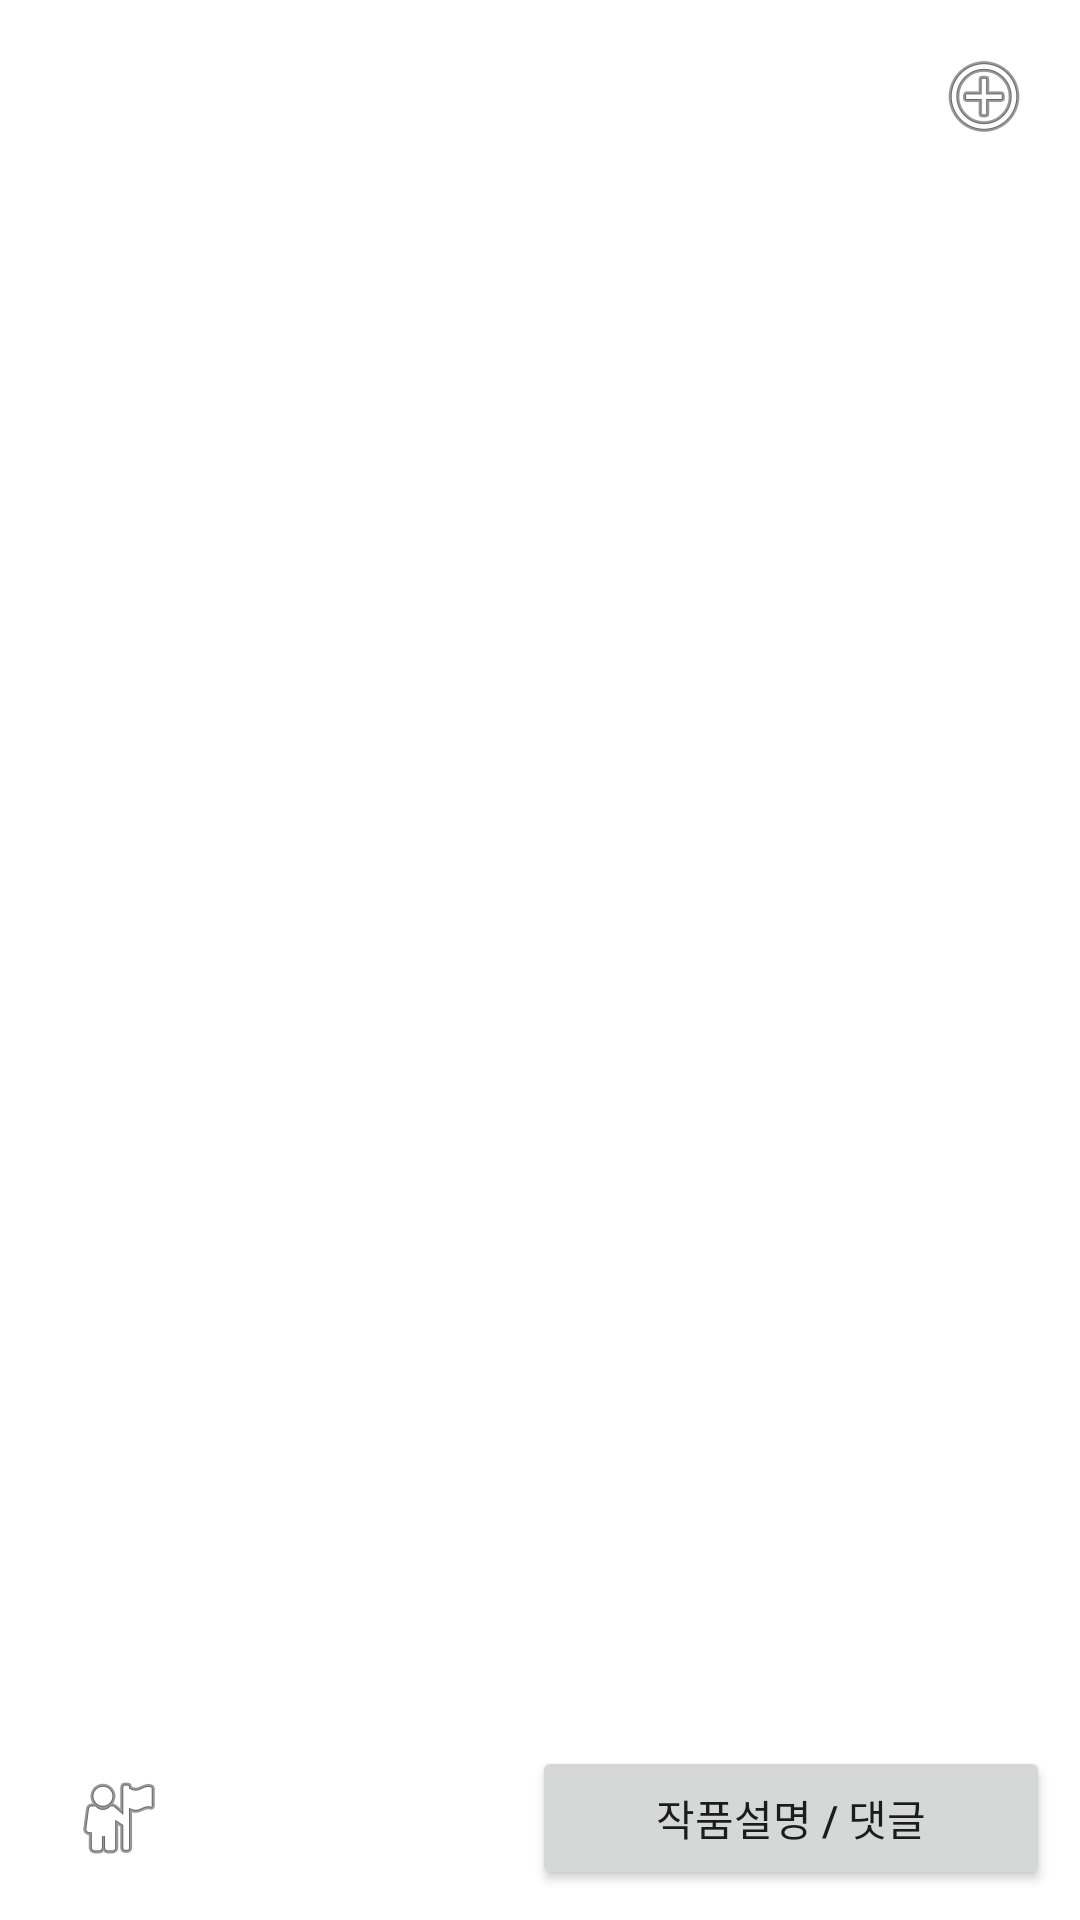

Where to tap for icons on this 1080px x 1920px app screen, as (x,y):
add: (984,96)
myplaces: (119,1818)
